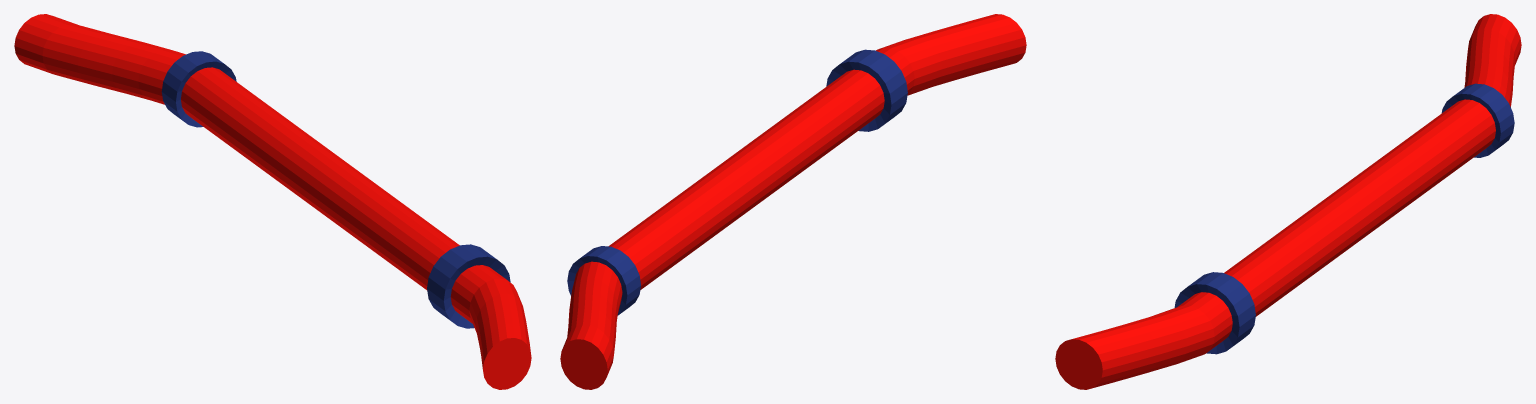
File: Lab Buizen model 10.fbx
3 views of the same model, side by side, from view 1: azimuth 30°, elevation 25°; view 2: azimuth 150°, elevation 25°; view 3: azimuth 330°, elevation 25° (orthographic). The views are drawn at different scales.
Visible parts, largest first — view 1: pCylinder16; view 2: pCylinder16; view 3: pCylinder16.
Boxes of the visible parts, x1,y1,x2,y2 form: pCylinder16: (14,14,531,389); pCylinder16: (560,14,1026,389); pCylinder16: (1055,14,1521,389).
Bounding box in the file's own units: 52.6 × 27.61 × 319.
1 material, 1 textured.
